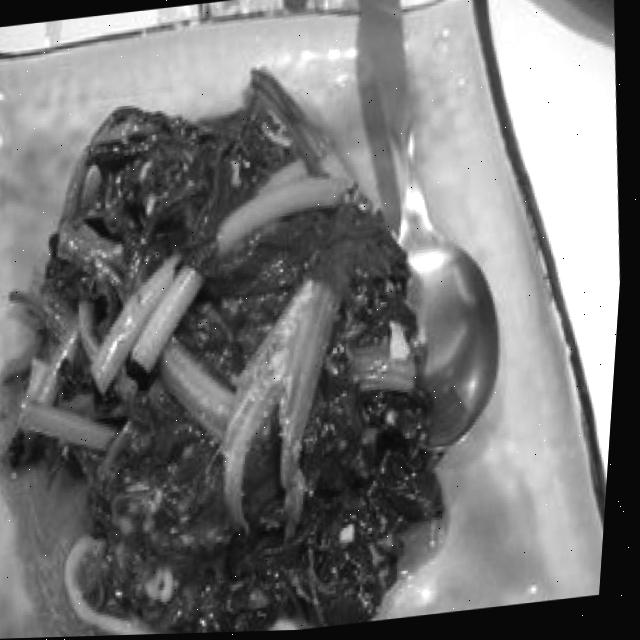蔬菜料理: (0, 63, 392, 640)
